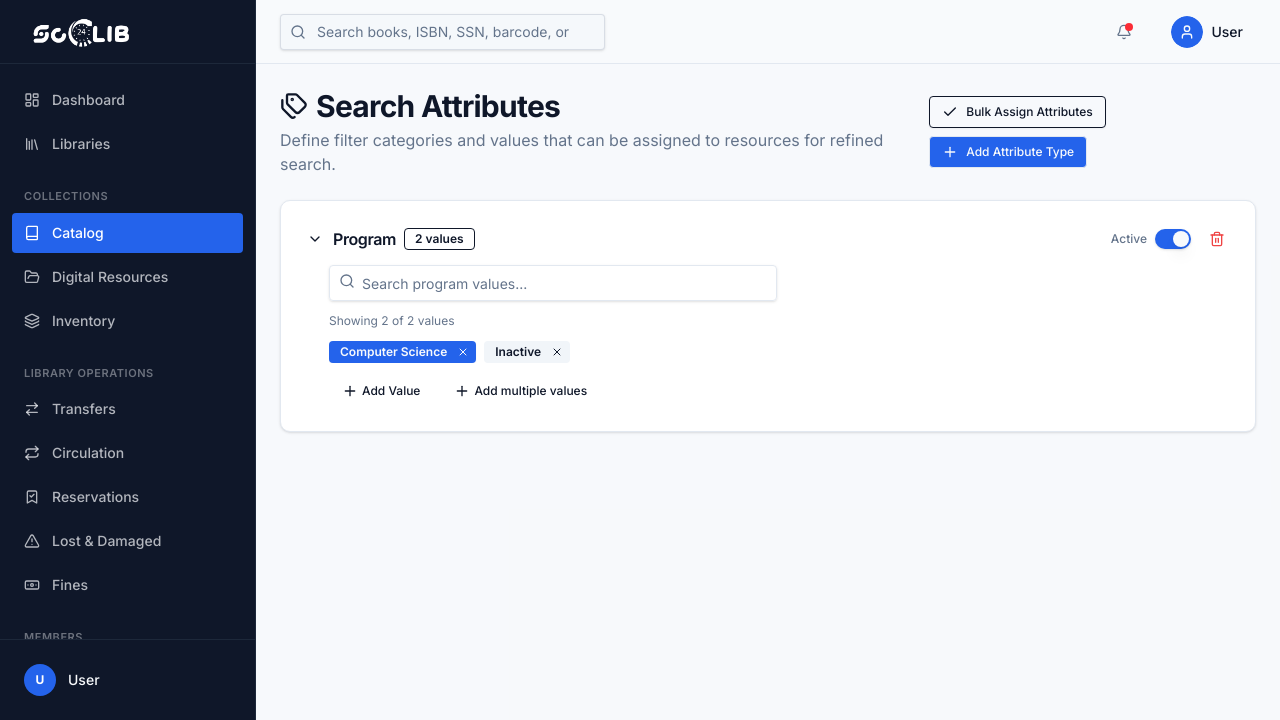
it: SearchAttributesPage bulk assignment › filters values by name within each attribute card
The width and height of the screenshot is (1280, 720).
In the field with test id "input-search-values-1": (553, 283) left=329, top=265, right=777, bottom=301, type "computer"
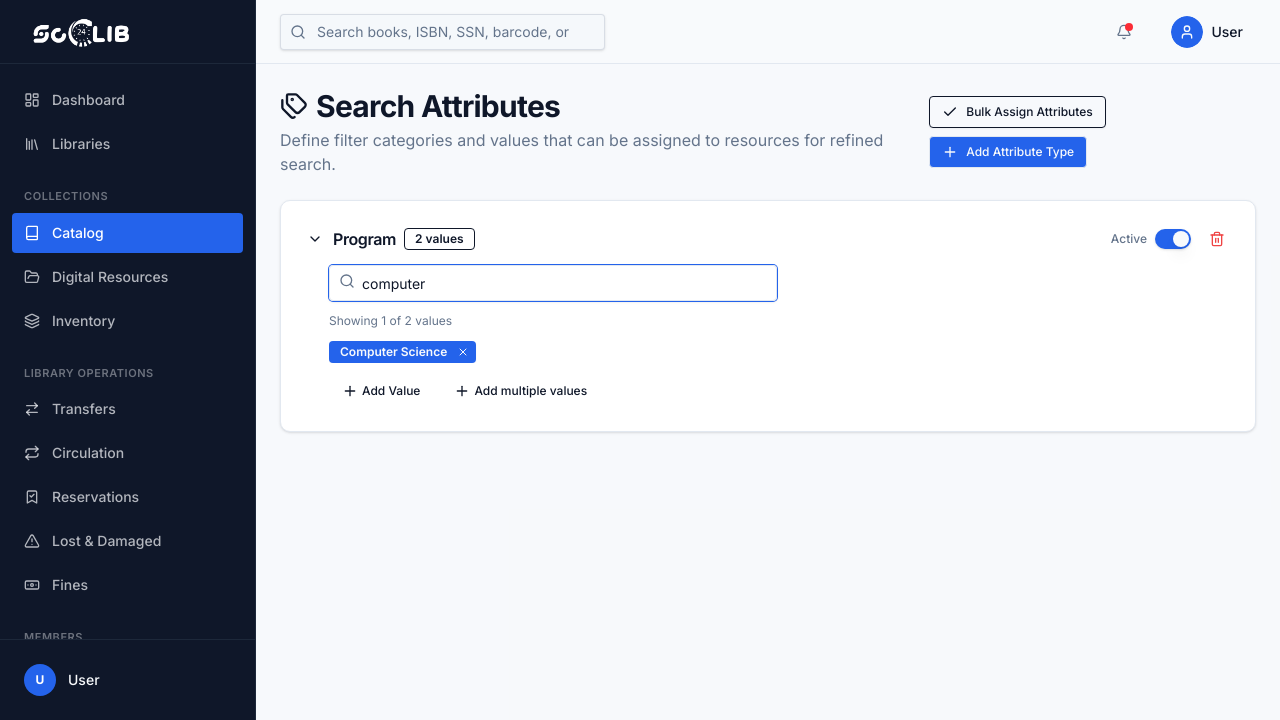
Expected: the element with test id "badge-value-10" is shown, left=329, top=341, right=476, bottom=363
Expected: the element with test id "badge-value-11" is gone
Expected: the text "Showing 1 of 2 values" is shown, left=329, top=313, right=452, bottom=328
Replace the text in the field with test id "input-search-values-1" with "does-not-exist": (553, 283) left=329, top=265, right=777, bottom=301
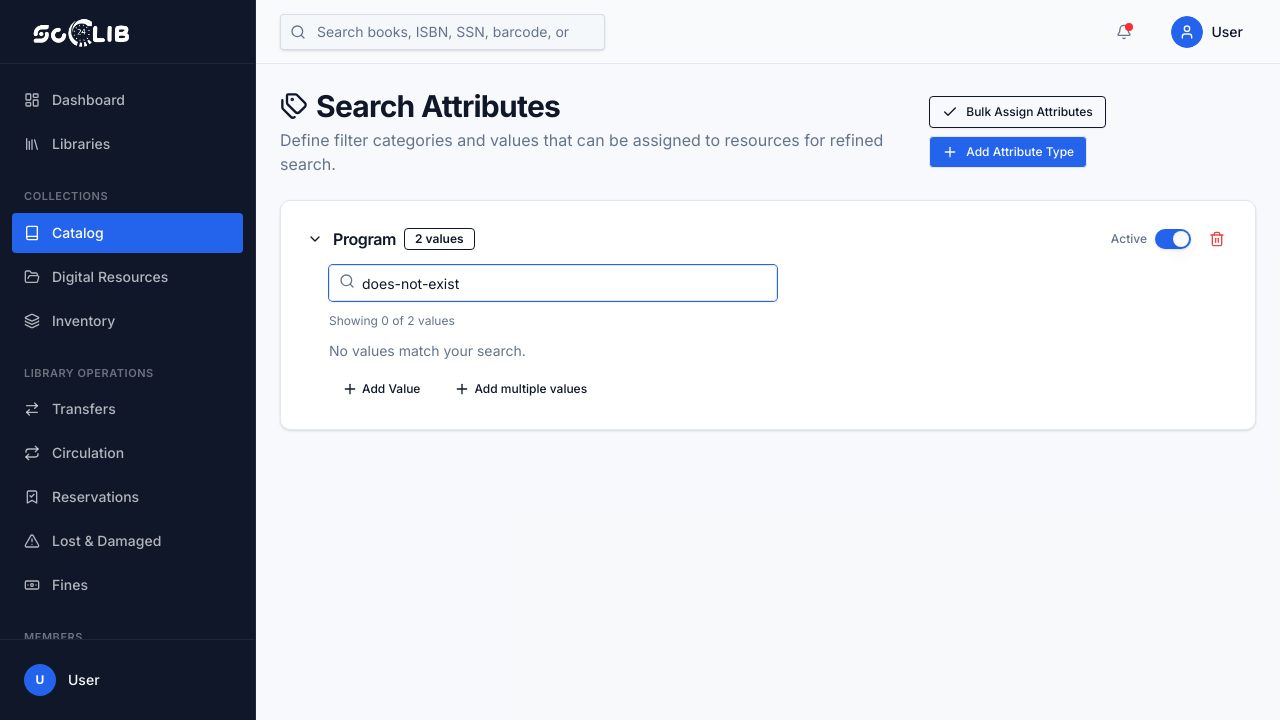
Expected: the text "No values match your search." is shown, left=329, top=342, right=526, bottom=359
Expected: the text "Showing 0 of 2 values" is shown, left=329, top=313, right=455, bottom=328
